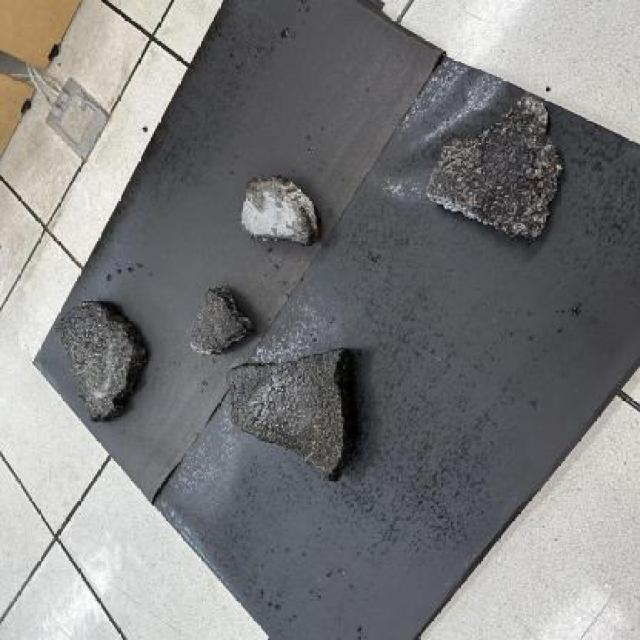Road Debris: (476, 114, 552, 235), (240, 355, 346, 423), (193, 292, 250, 351), (60, 303, 131, 349), (238, 178, 292, 204)
